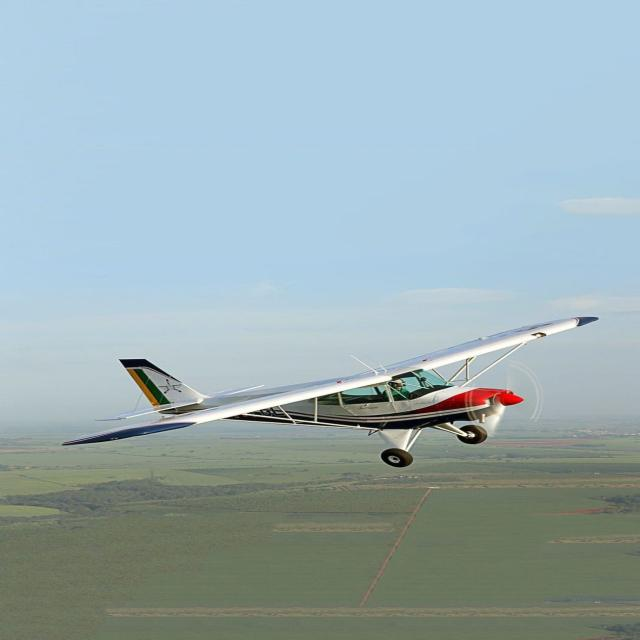iha: (52, 306, 593, 462)
